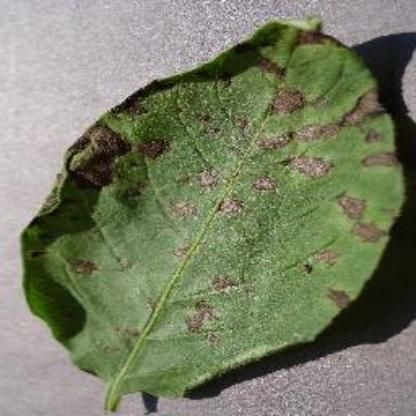Early-Blight: (19, 8, 411, 408)
